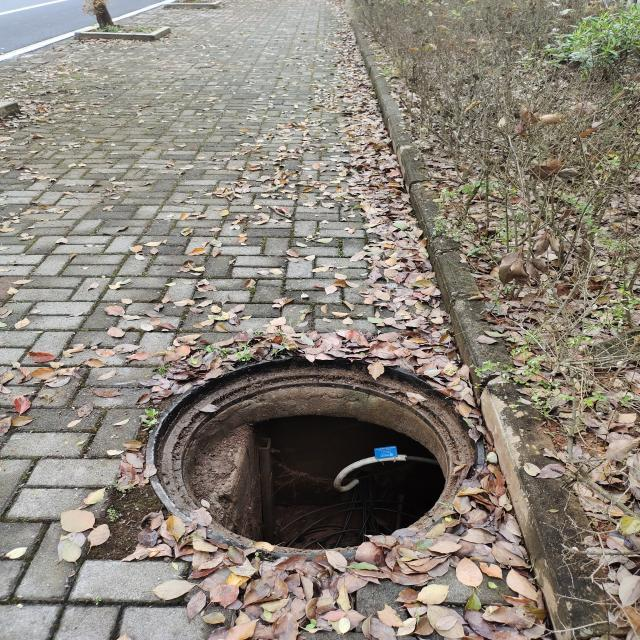Faulty: (153, 351, 477, 557)
